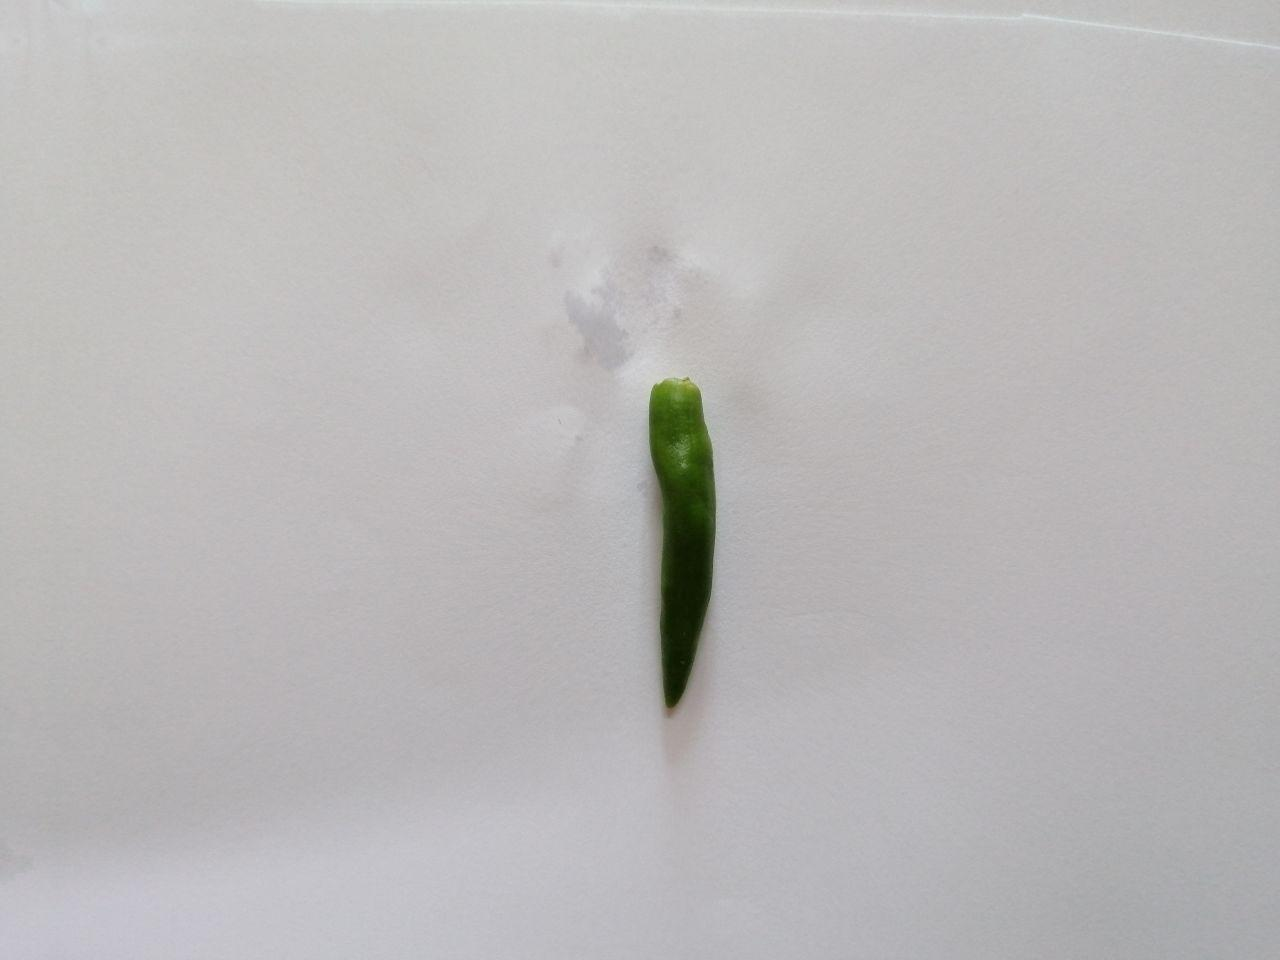lada hijau: (619, 356, 762, 730)
